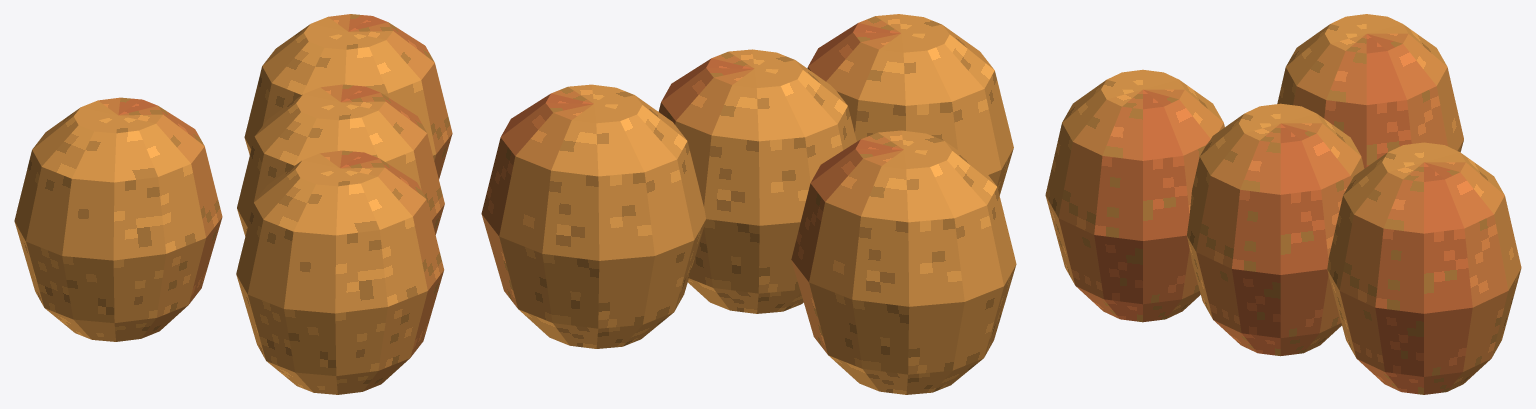
The model's file is apricot.glb.
The picture shows the model from 3 angles, left to right: view 1: azimuth 30°, elevation 25°; view 2: azimuth 150°, elevation 25°; view 3: azimuth 270°, elevation 25°; orthographic projection. The views are drawn at different scales.
Visible parts, largest first — view 1: block_apricot (×4); view 2: block_apricot (×4); view 3: block_apricot (×4).
Part boxes in pixels (x1,y1,x2,y2): block_apricot (×4): (14, 14, 452, 394); block_apricot (×4): (481, 14, 1016, 394); block_apricot (×4): (1045, 14, 1521, 394).
Size of the model in its own units: 0.114 by 0.0509 by 0.104.
Materials: 1 (1 with a texture image).
